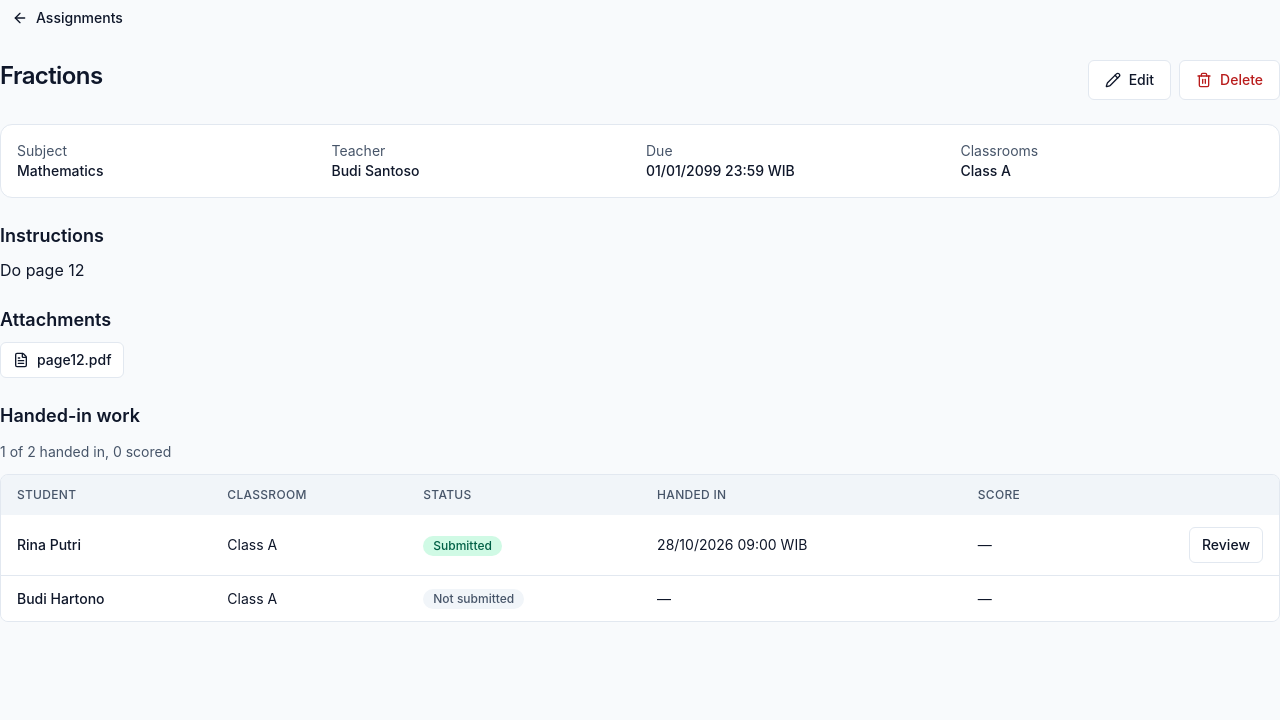
Scenario: AssignmentDetailPage › as the teacher › shows the validation message of a score
Step 1. Click the button "Review" → x=1226, y=545, box [1189,527,1263,563]
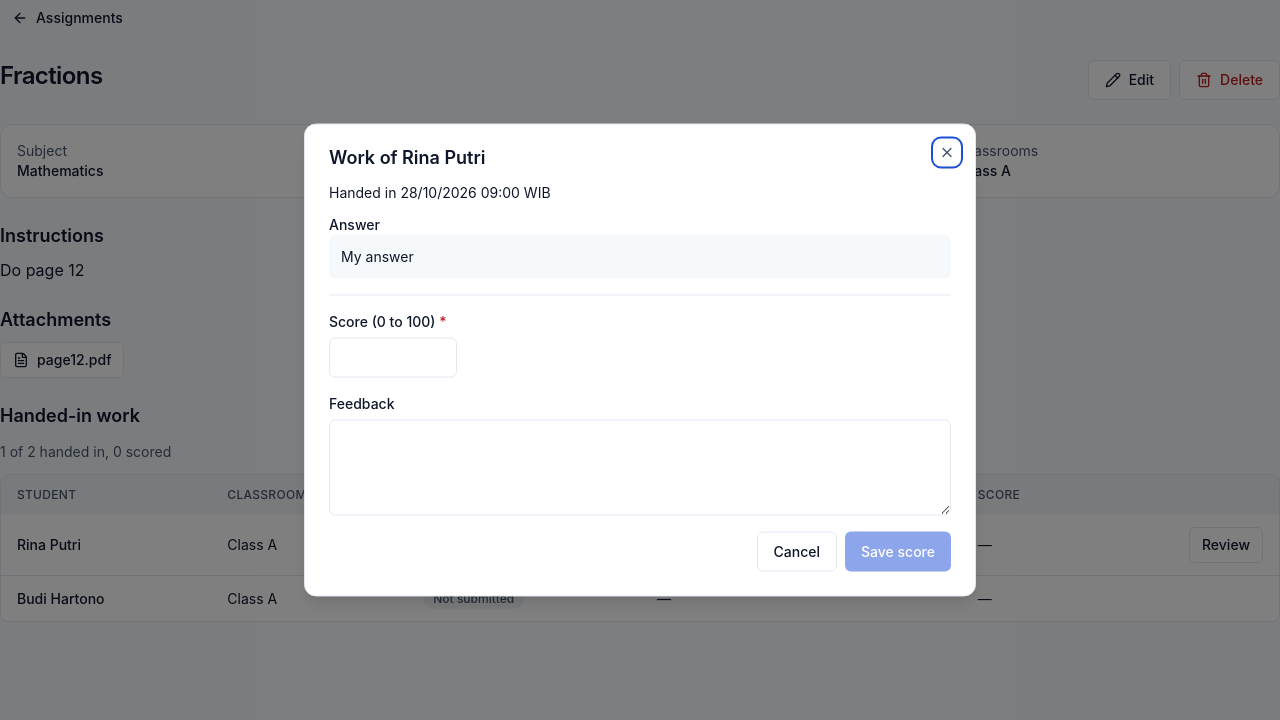
Expected: the text "My answer" is shown, [329,234,951,278]
Step 2. Type "88.123" into the number field labelled "Score (0 to 100) *" → x=393, y=358, box [329,338,457,378]
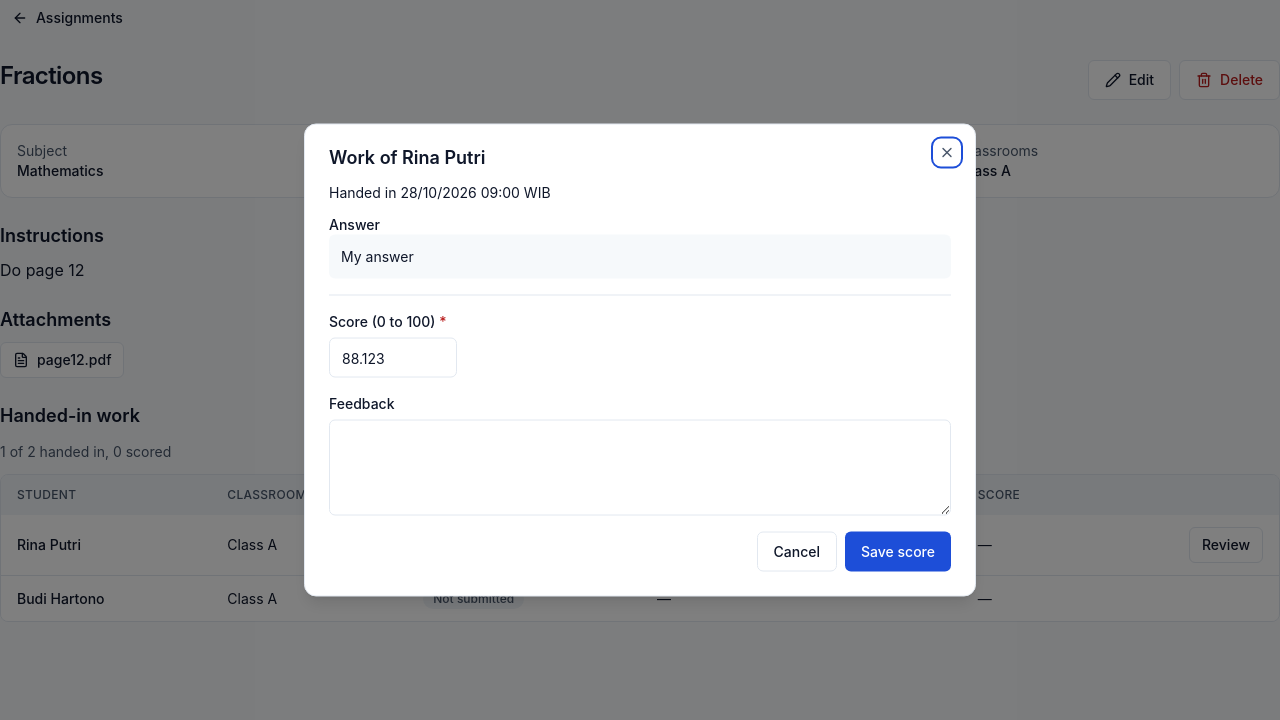
Step 3. Click the button "Save score" → x=898, y=552, box [845,532,951,572]
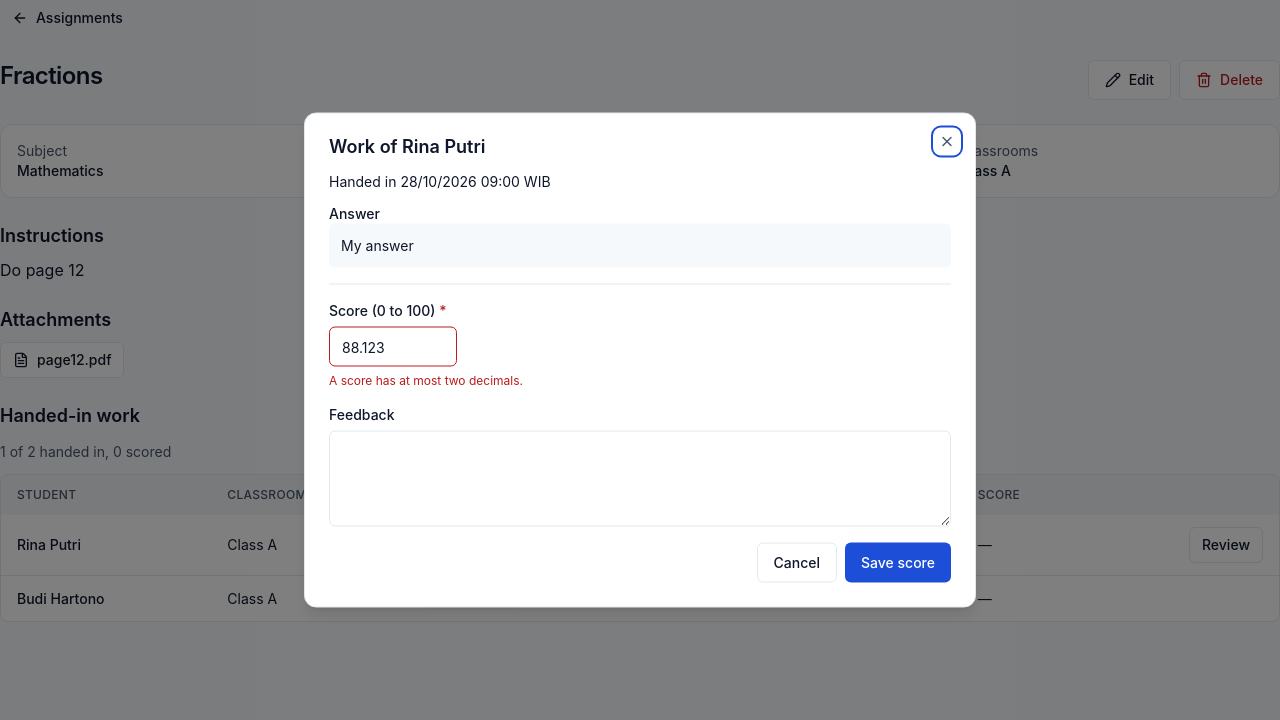
Expected: the text "A score has at most two decimals." is shown, [329,372,523,388]
